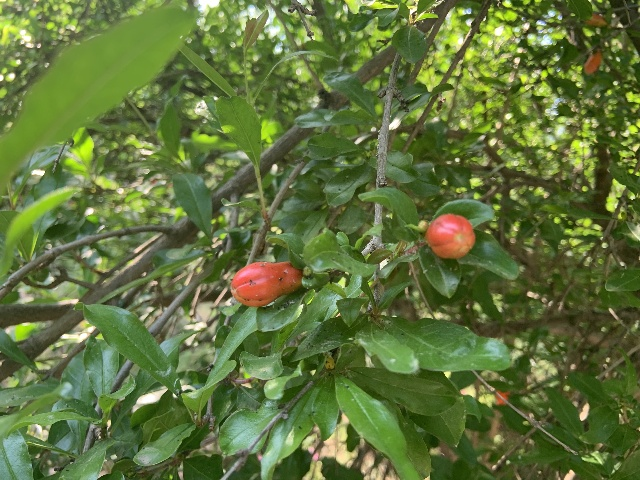bud: (231, 260, 303, 306), (425, 213, 474, 259), (583, 50, 600, 75), (584, 14, 608, 27)
